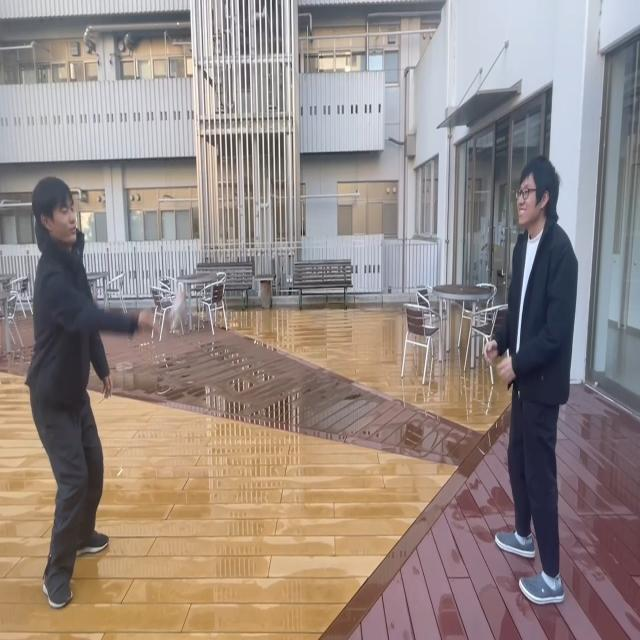bottle: (168, 292, 186, 331)
